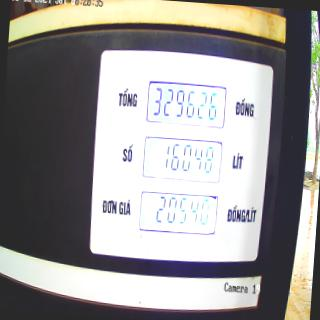screen: (136, 75, 228, 238)
